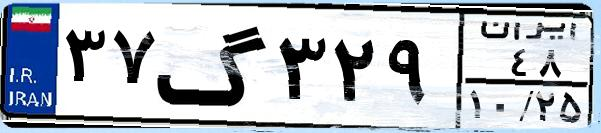0: (495, 70, 520, 125)
1: (470, 70, 495, 125)
2: (330, 28, 385, 110), (535, 70, 560, 125)
3: (270, 28, 330, 110), (57, 26, 110, 100)
4: (508, 27, 537, 80)
5: (560, 70, 590, 125)
7: (110, 28, 156, 98)
8: (537, 27, 568, 80)
9: (385, 28, 445, 110)
گ: (156, 12, 270, 120)
